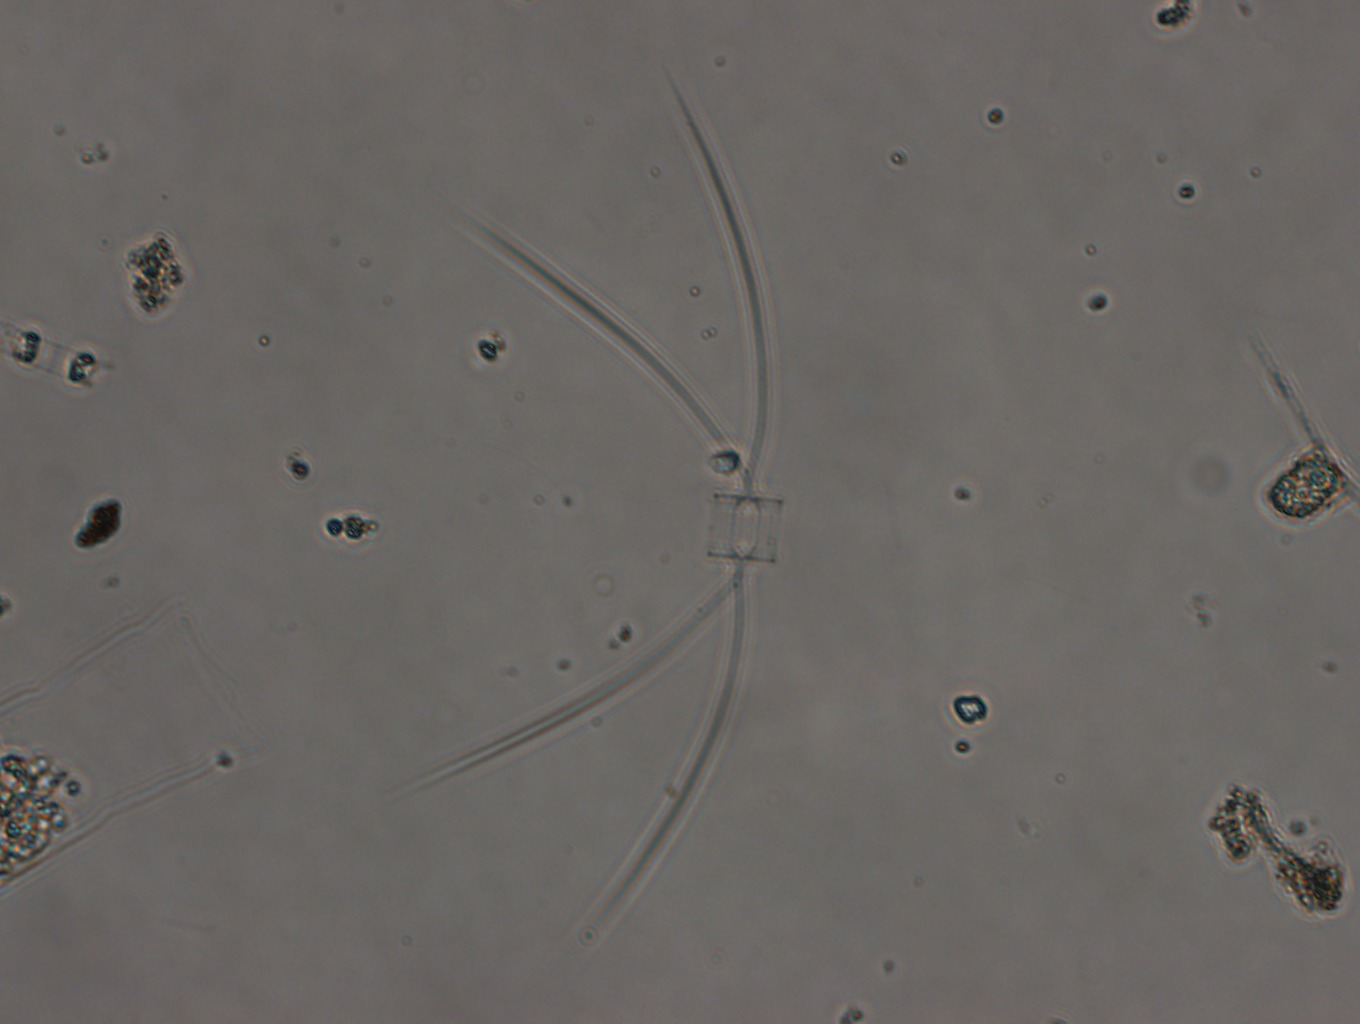chaetoceros: (401, 67, 784, 931)
